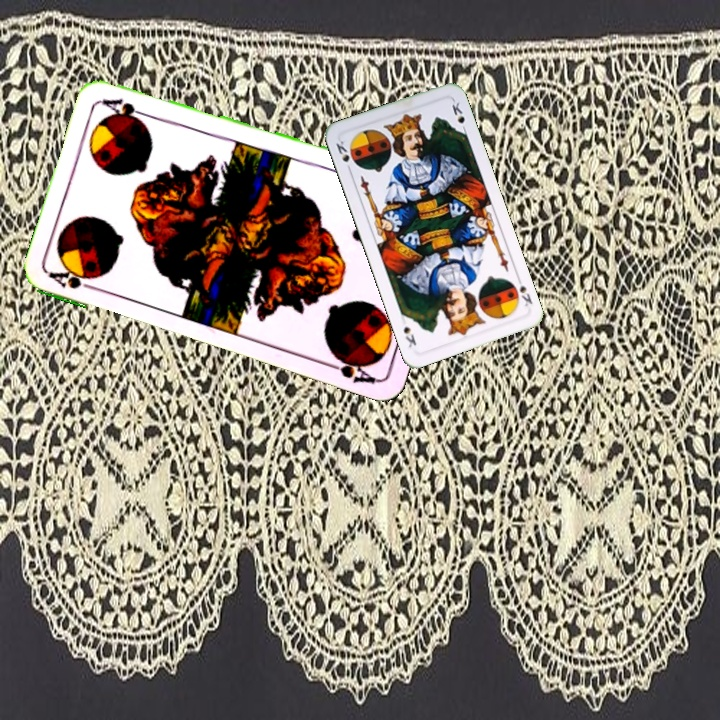SA: (45, 264, 104, 294)
SK: (332, 136, 354, 175), (512, 272, 535, 309)
